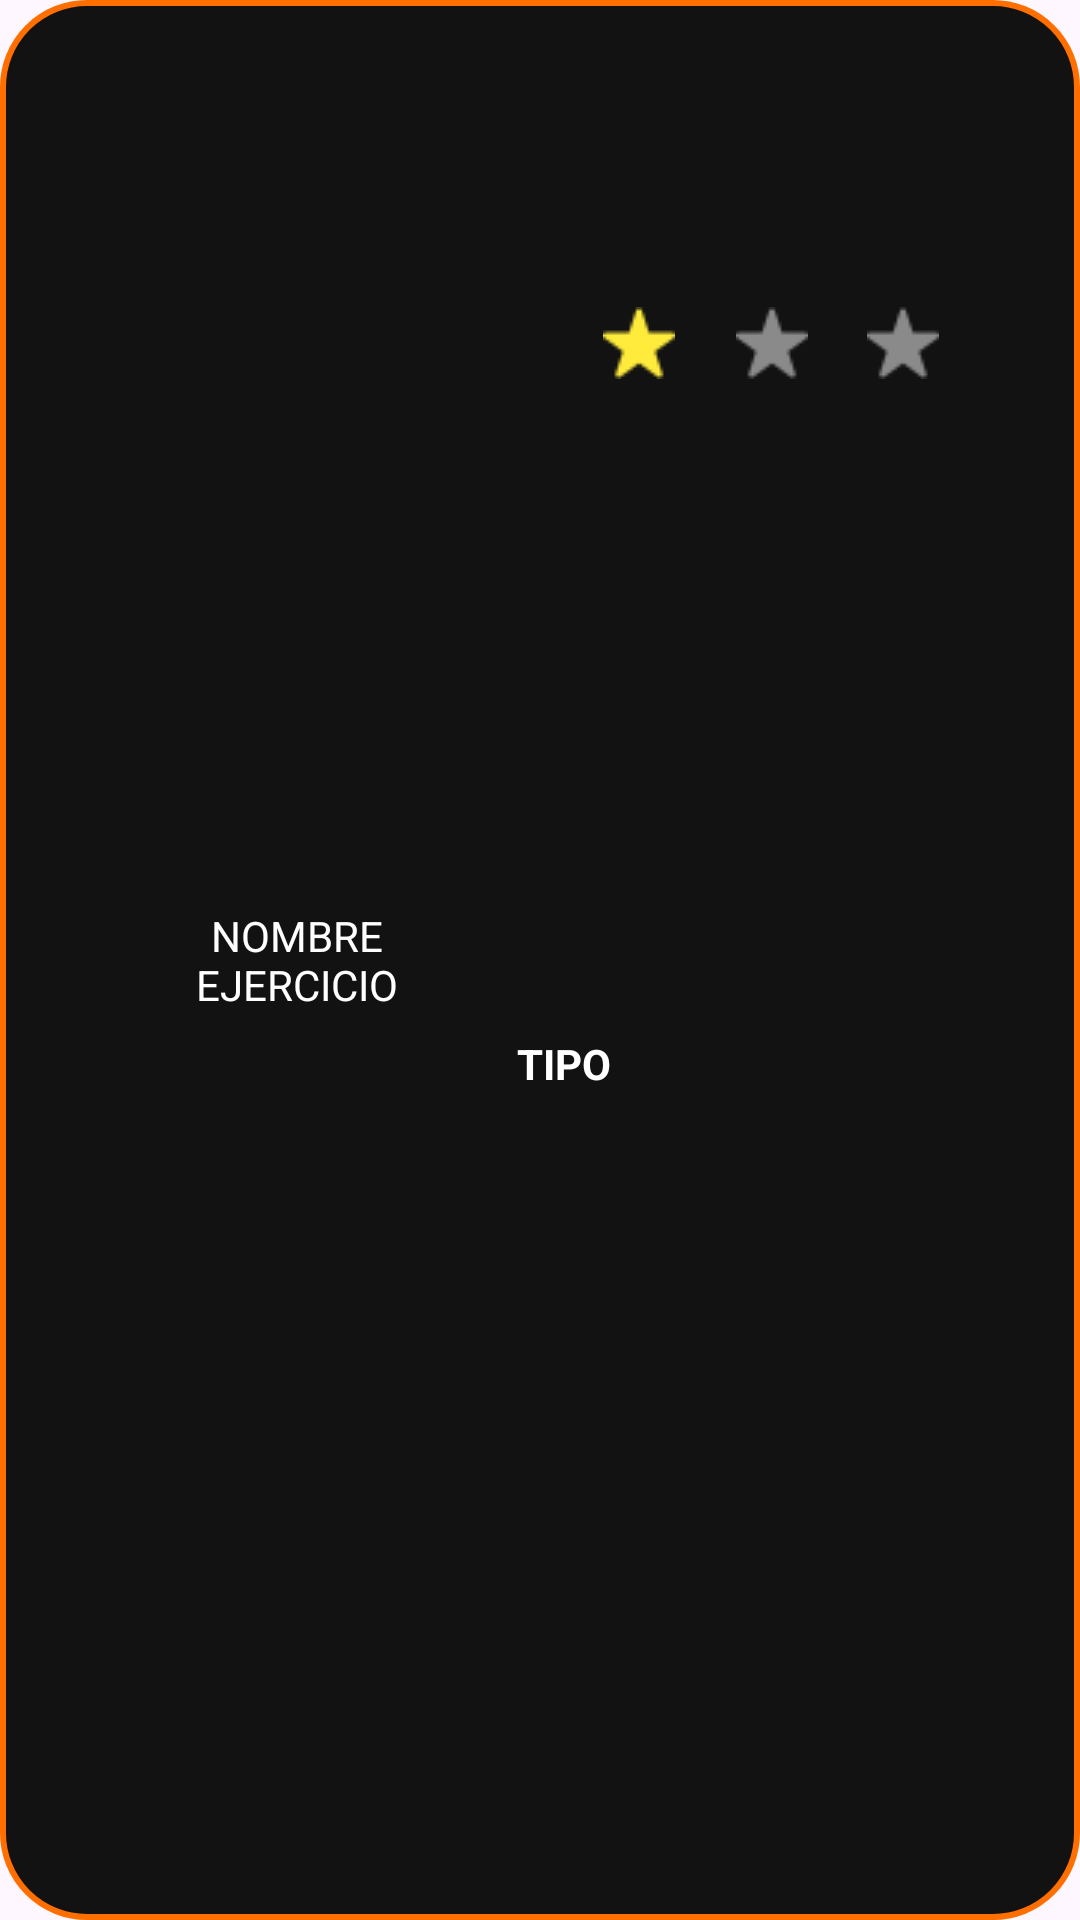

Named icons in this screenshot (1080px×1920px) and their centers, (x=x, y=y):
estrella: (x=639, y=343), (x=772, y=343), (x=903, y=343)
